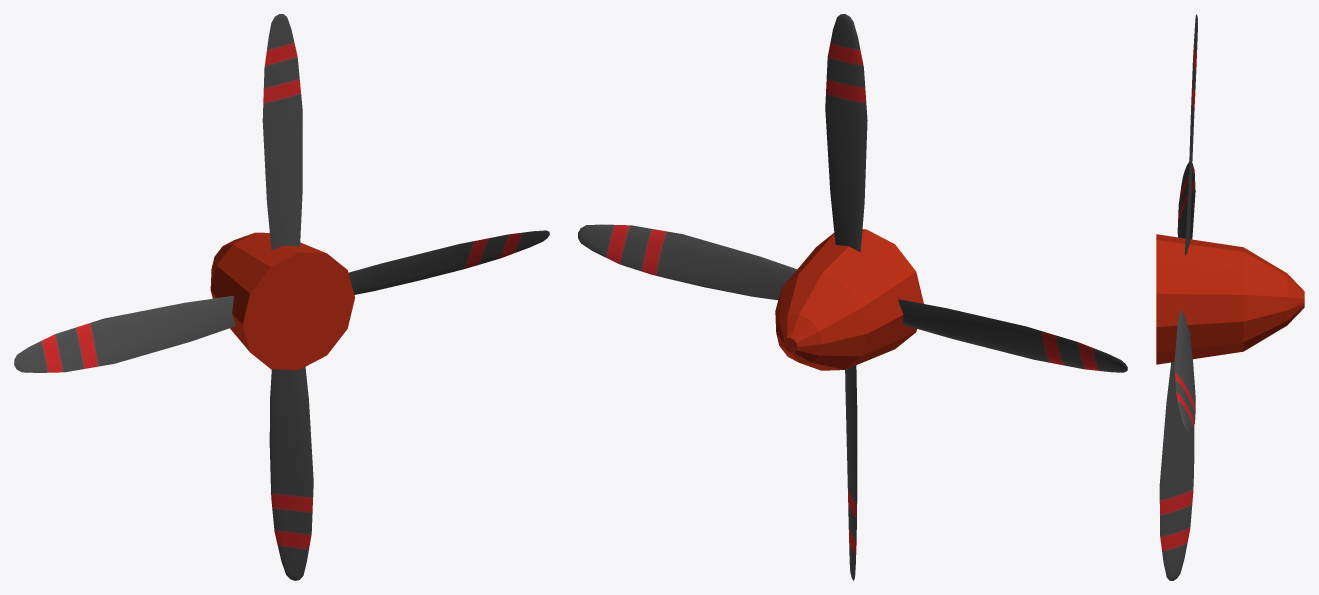
Rendered from Prop_MU2.obj.
3 views of the same model, side by side, from view 1: azimuth 30°, elevation 25°; view 2: azimuth 150°, elevation 25°; view 3: azimuth 270°, elevation 25° (orthographic). The views are drawn at different scales.
Visible parts, largest first — view 1: propblur_Cube.000, Shape_IndexedFaceSet.001_Shape_IndexedFaceSet.020, propblur_Cube.020; view 2: propblur_Cube.020, Shape_IndexedFaceSet.001_Shape_IndexedFaceSet.020, propblur_Cube.000; view 3: Shape_IndexedFaceSet.001_Shape_IndexedFaceSet.020, propblur_Cube.000, propblur_Cube.020.
Boxes of the visible parts, x1,y1,x2,y2 form: propblur_Cube.000: (262,14,313,580); Shape_IndexedFaceSet.001_Shape_IndexedFaceSet.020: (210,232,354,369); propblur_Cube.020: (14,230,549,372); propblur_Cube.020: (578,224,1127,372); Shape_IndexedFaceSet.001_Shape_IndexedFaceSet.020: (775,229,923,370); propblur_Cube.000: (825,14,867,580); Shape_IndexedFaceSet.001_Shape_IndexedFaceSet.020: (1156,234,1304,364); propblur_Cube.000: (1159,14,1197,580); propblur_Cube.020: (1174,162,1195,433).
Bounding box in the file's own units: 14.27 × 14.26 × 3.4.
